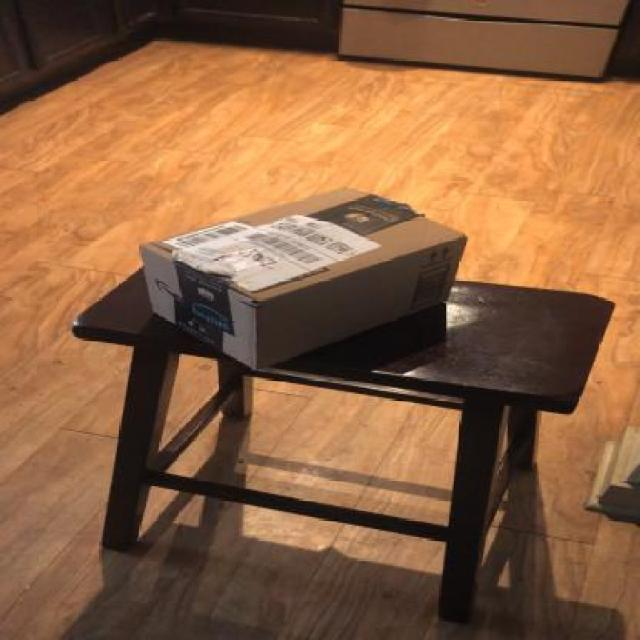cardboxes: (127, 186, 475, 377)
